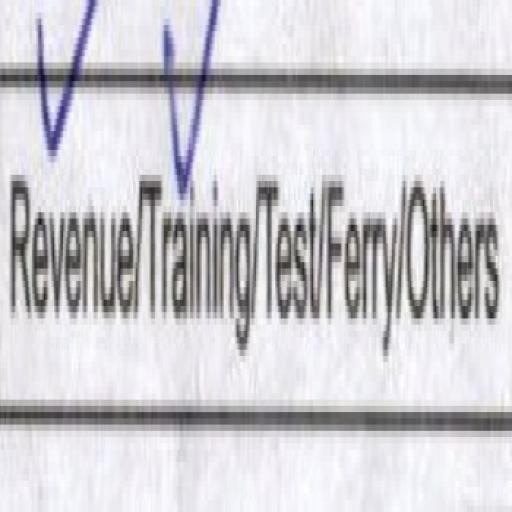check: (2, 0, 135, 512), (139, 0, 253, 512)
